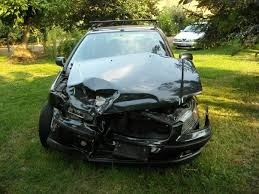Smashed: (46, 72, 201, 161)
